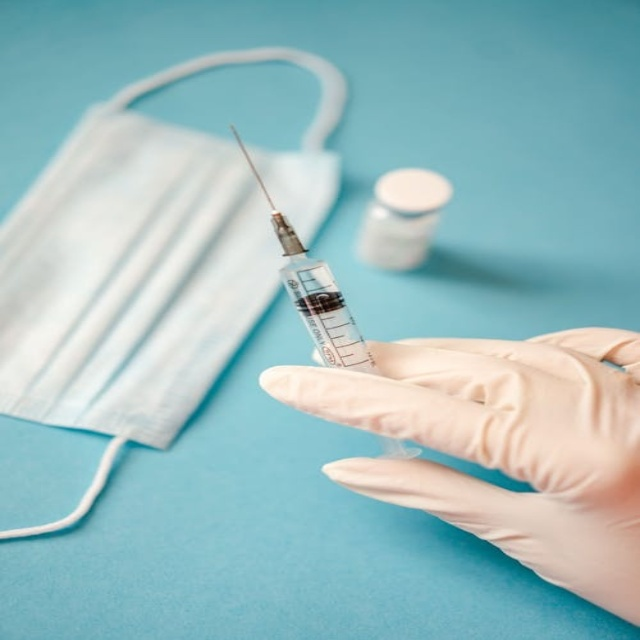Guantes: (253, 310, 639, 595)
